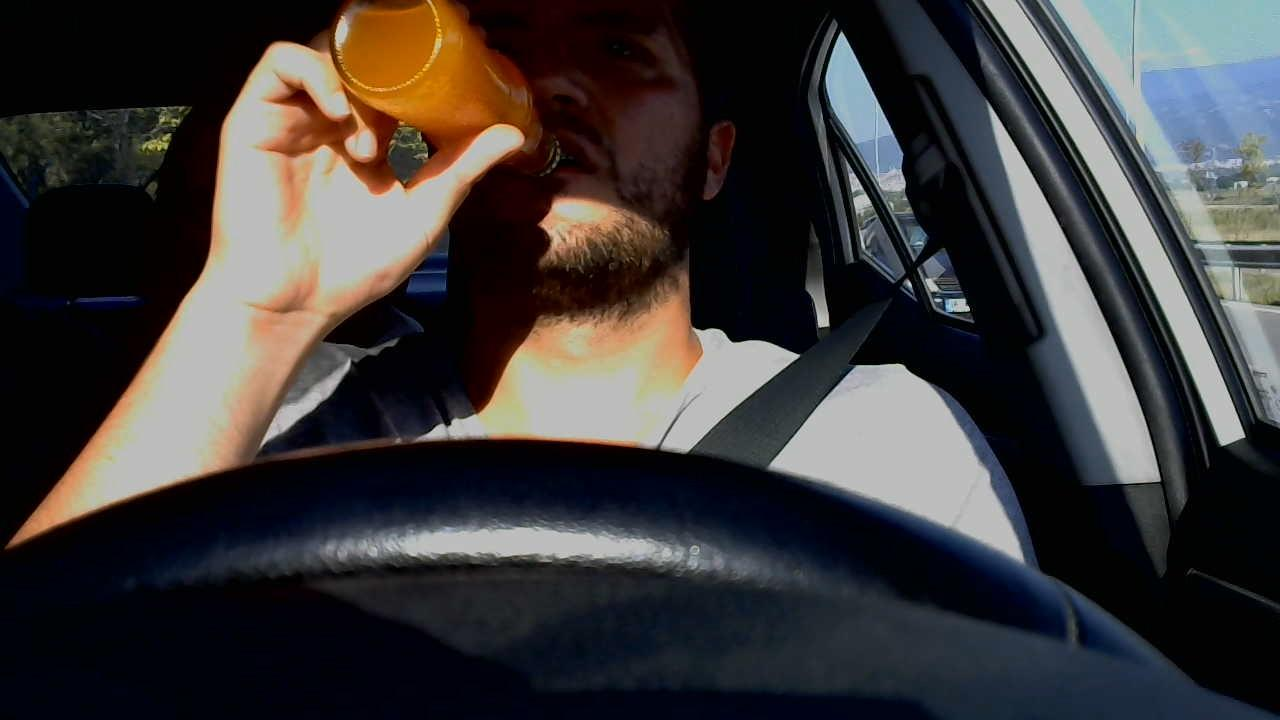Drinking: (239, 0, 737, 288)
